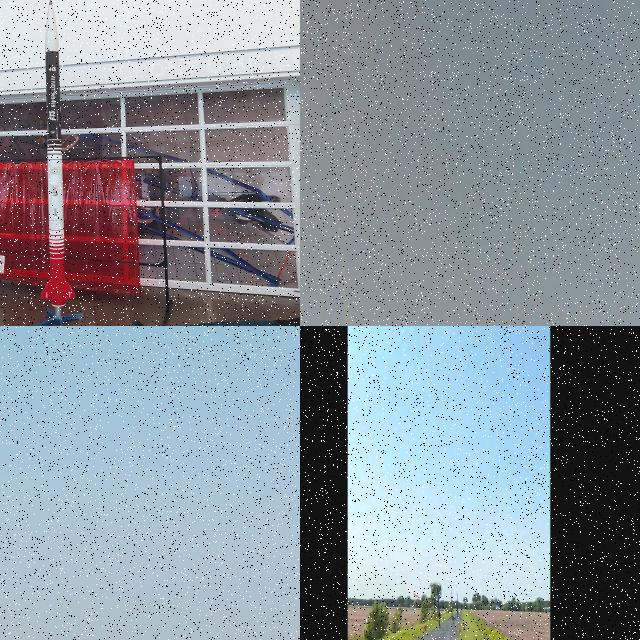Rocket: (41, 0, 75, 306), (437, 591, 441, 620), (340, 228, 340, 230)
